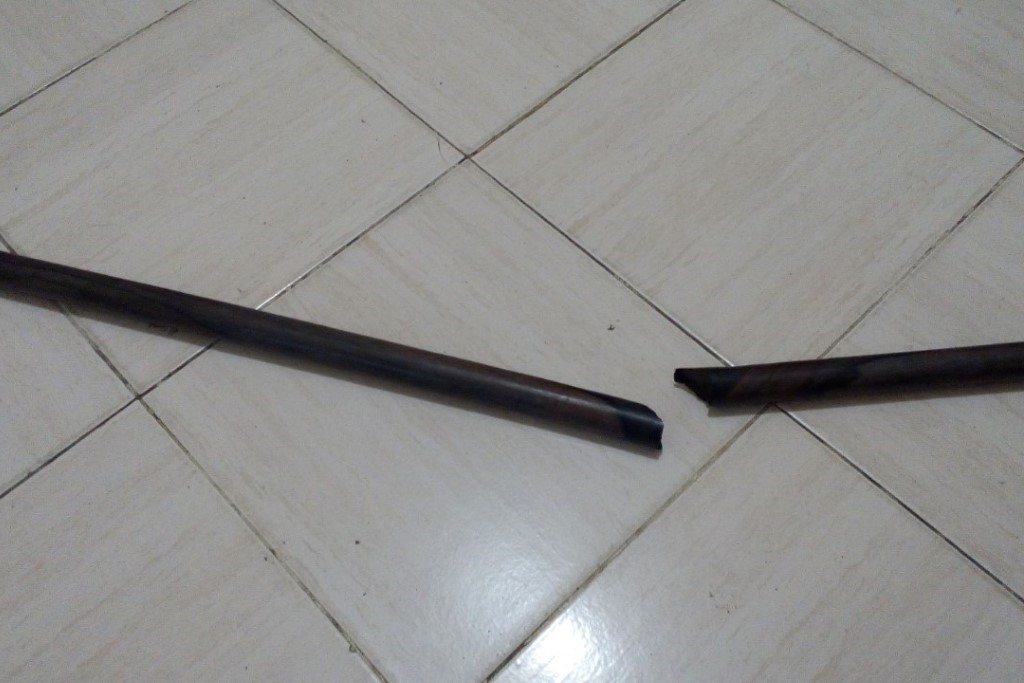baston_e: (13, 238, 622, 452), (731, 333, 1023, 425)
baston_v: (606, 375, 701, 481), (668, 352, 739, 436)
